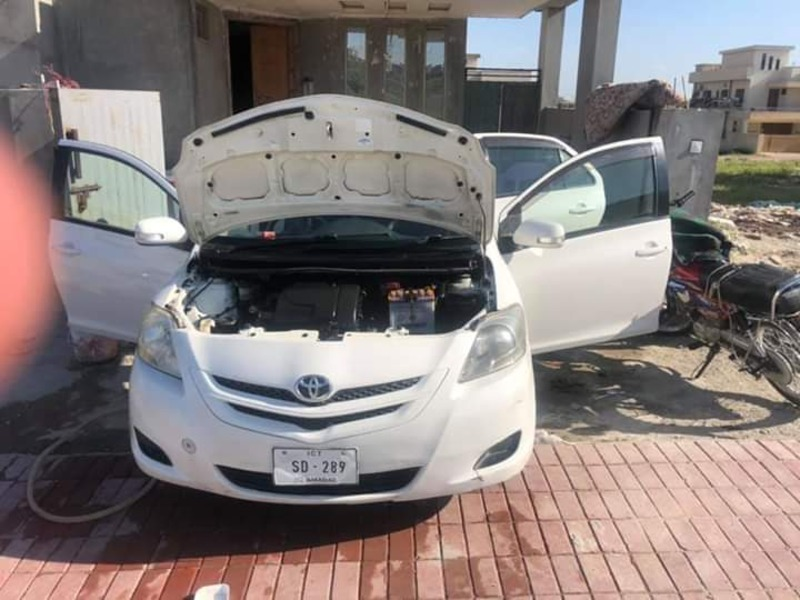License Plate: (269, 445, 362, 488)
